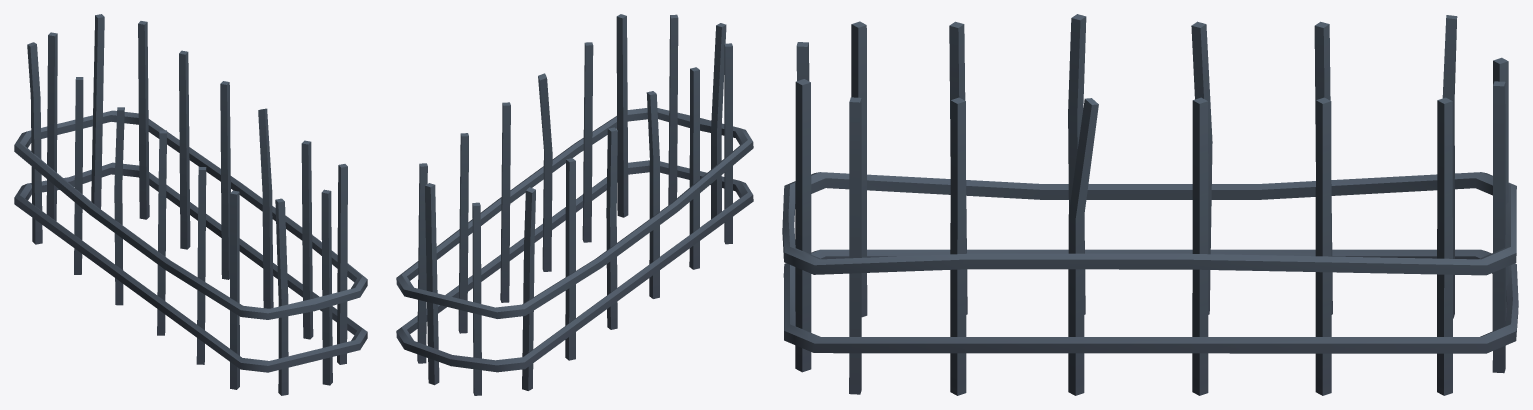
Rendered from RreinforcingBars_C_2__.obj.
The picture shows the model from 3 angles, left to right: view 1: azimuth 30°, elevation 25°; view 2: azimuth 150°, elevation 25°; view 3: azimuth 270°, elevation 25°; orthographic projection. The views are drawn at different scales.
Parts seen in each view (by area): view 1: RreinforcingBars_C_2__; view 2: RreinforcingBars_C_2__; view 3: RreinforcingBars_C_2__.
Part boxes in pixels (x1,y1,x2,y2): RreinforcingBars_C_2__: [14, 14, 367, 395]; RreinforcingBars_C_2__: [396, 14, 753, 395]; RreinforcingBars_C_2__: [782, 14, 1518, 395].
Bounding box in the file's own units: 0.4253 × 0.6427 × 1.43.
